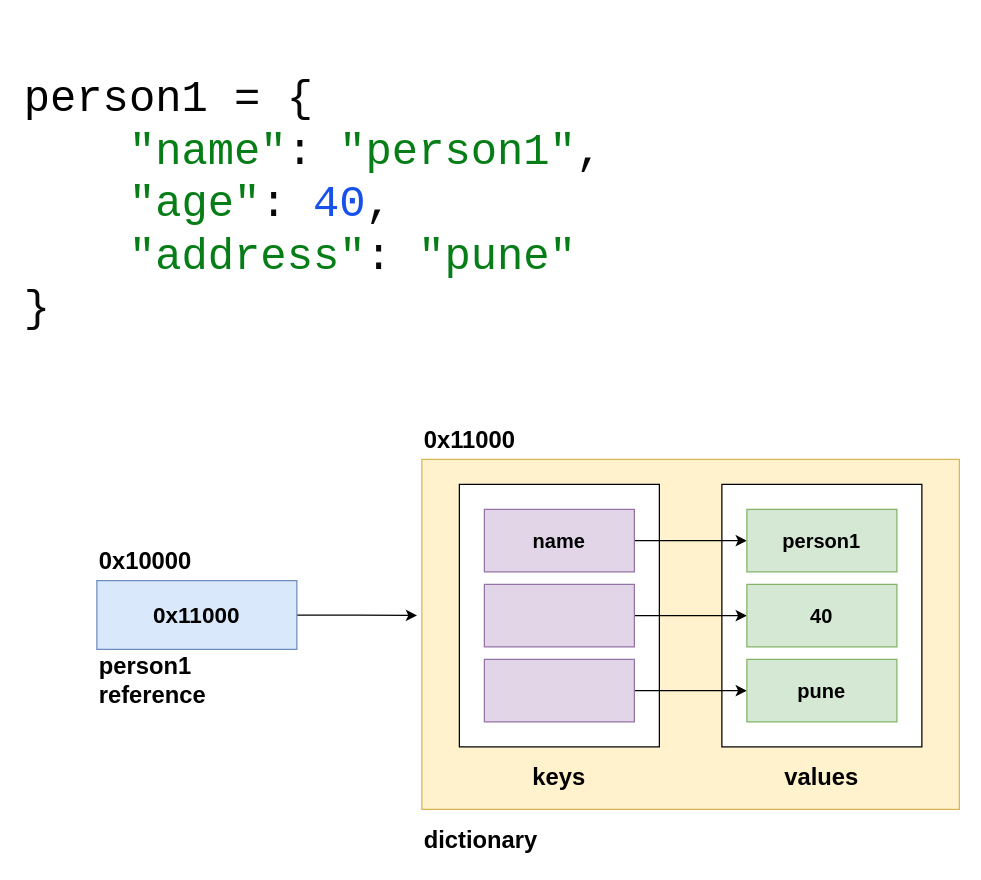
The diagram is 981 pixels wide and 880 high, and some of its shapes have lost their labels. Each missing label, with the centre of its shape:
"address" goes at (558,690).
"age" goes at (558,615).
